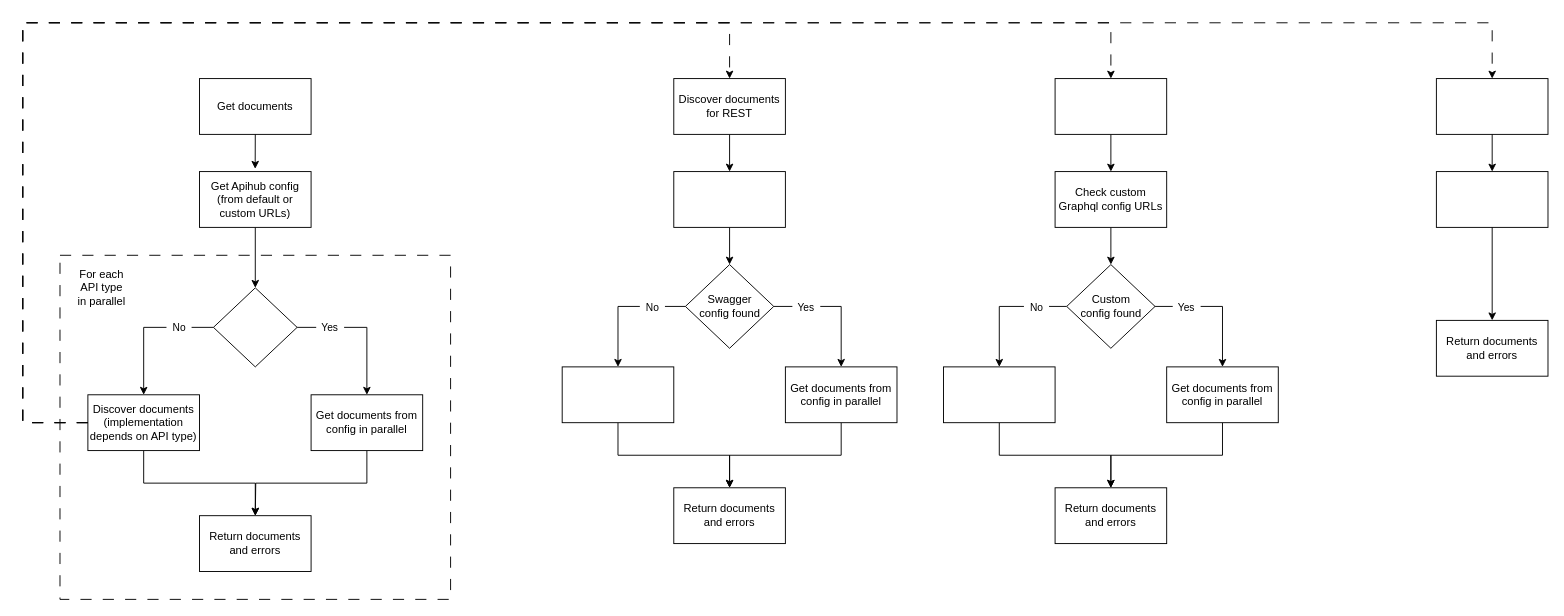
Image size: 1564x616. Some labels were removed from this diagram. Here are the shapes that lost their labels. From the top down, the centre of each, then its label:
At (x=1110, y=106): "Discover documents for Graphql".
At (x=1491, y=106): "Discover documents for AsyncAPI".
At (x=729, y=199): "Check swagger config URLs".
At (x=1491, y=199): "Check AsyncAPI doc URLs".
At (x=255, y=327): "Config found".
At (x=617, y=394): "Check all known REST URLs in parallel".
At (x=999, y=394): "Check schema and introspection URLs in parallel".
